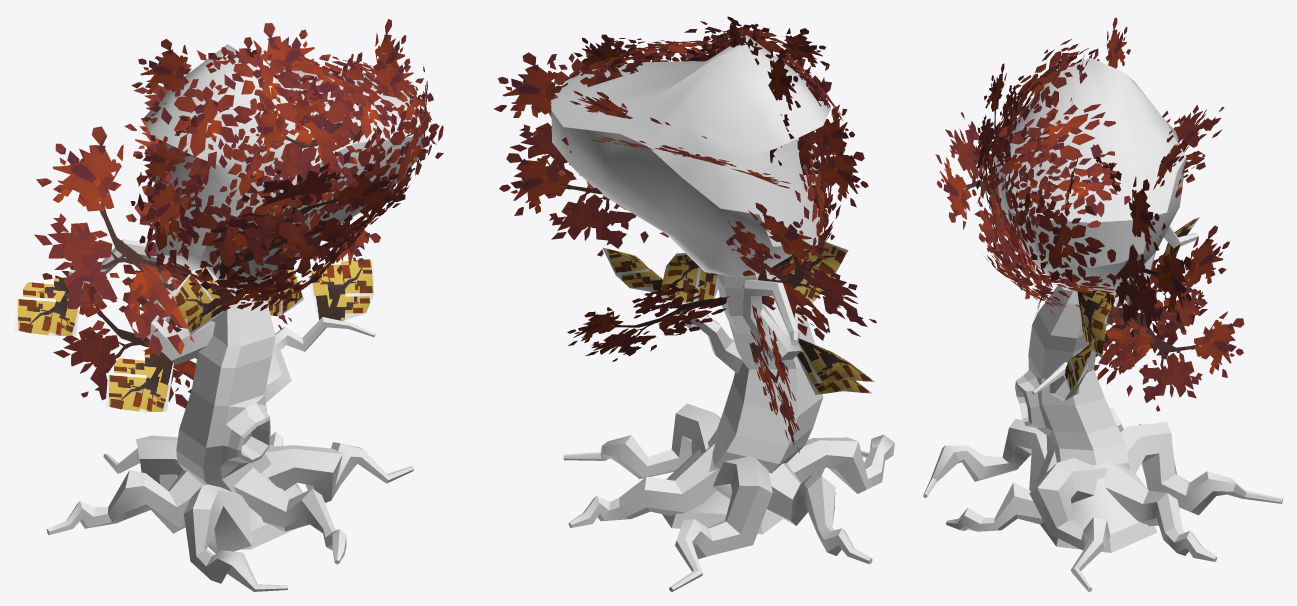
The model's file is hero tree.FBX.
The picture shows the model from 3 angles, left to right: view 1: azimuth 30°, elevation 25°; view 2: azimuth 150°, elevation 25°; view 3: azimuth 270°, elevation 25°; orthographic projection. The views are drawn at different scales.
Visible parts, largest first — view 1: Line006, Plane056, leaveclump_018, Box001, Plane045; view 2: Box001, Line006, Plane056, Plane045, leaveclump_018; view 3: Line006, Plane056, Box001, leaveclump_018, Plane045.
Boxes of the visible parts, x1,y1,x2,y2 form: Line006: [46, 239, 413, 591]; Plane056: [34, 19, 429, 410]; leaveclump_018: [130, 42, 443, 316]; Box001: [144, 44, 424, 284]; Plane045: [14, 258, 373, 412]; Box001: [551, 35, 830, 277]; Line006: [563, 270, 894, 591]; Plane056: [494, 16, 876, 452]; Plane045: [602, 240, 874, 394]; leaveclump_018: [531, 21, 842, 280]; Line006: [923, 226, 1282, 591]; Plane056: [935, 17, 1244, 411]; Box001: [994, 57, 1186, 291]; leaveclump_018: [969, 39, 1135, 317]; Plane045: [1064, 217, 1199, 391].
Size of the model in its own units: 60.73 by 72.57 by 49.03.
